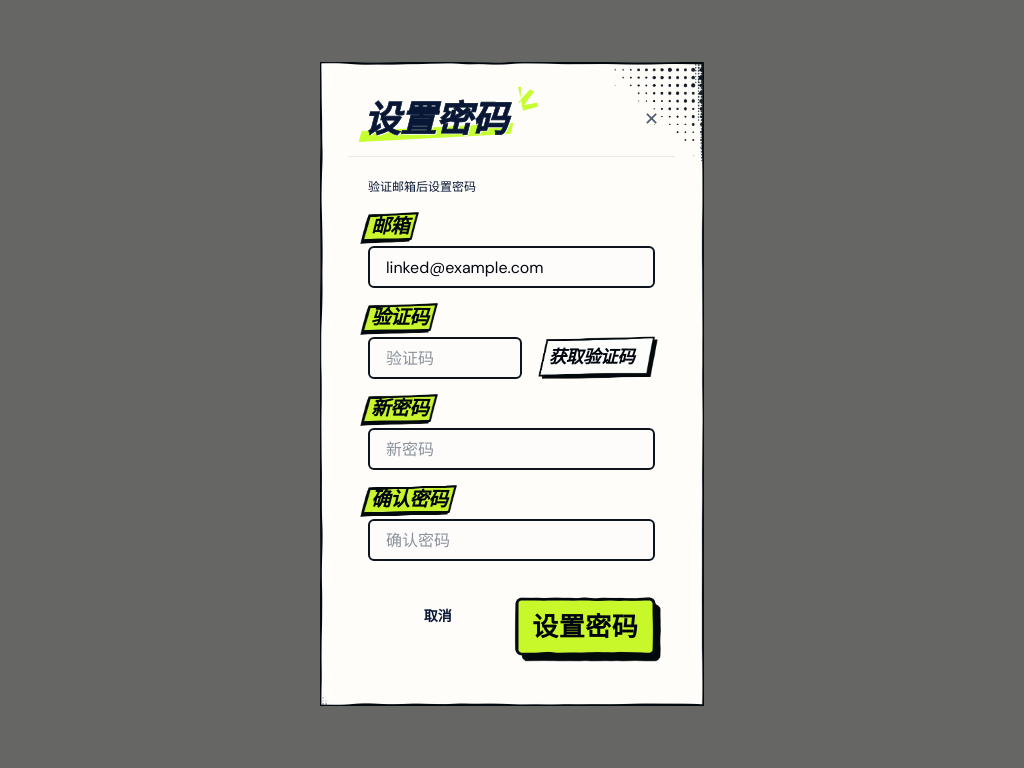
Test case: ChangePasswordDialog › keeps an existing account email read-only and surfaces an email conflict
This screenshot has width=1024, height=768.
expect the field labelled "邮箱" holds "linked@example.com": met, box [368,246,655,288]
Type "123456" into the field with placeholder "验证码" at (445, 358), box [368,337,522,379]
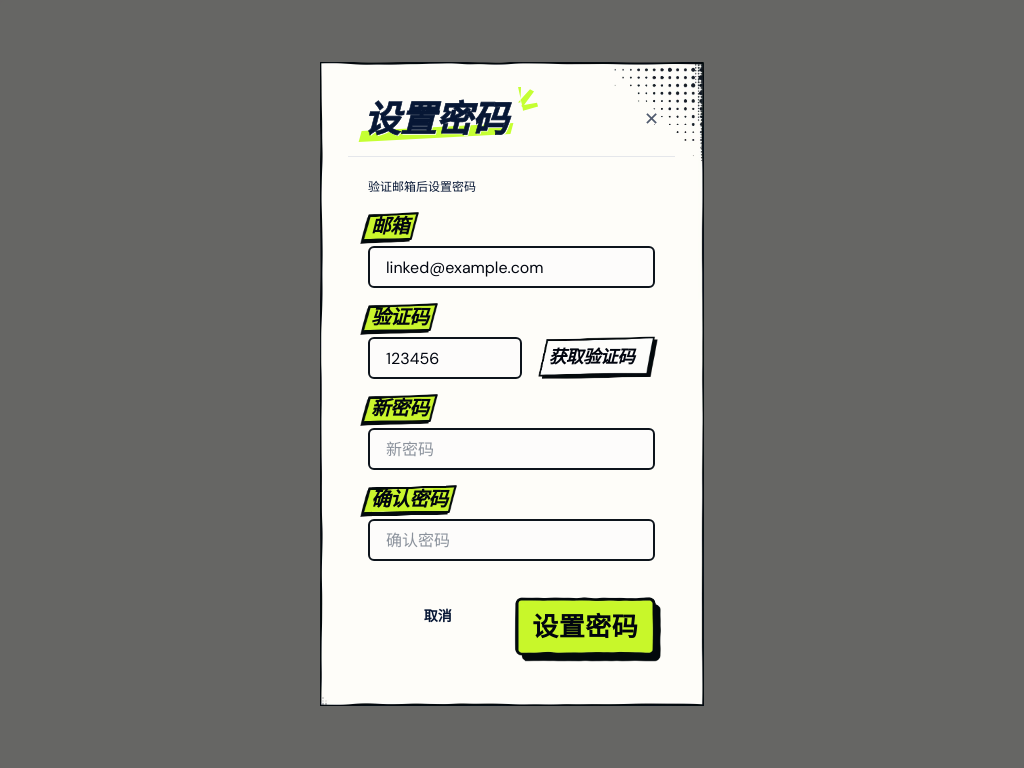
Type "new-secret123" into the password field with placeholder "新密码" at (512, 449), box [368,428,655,470]
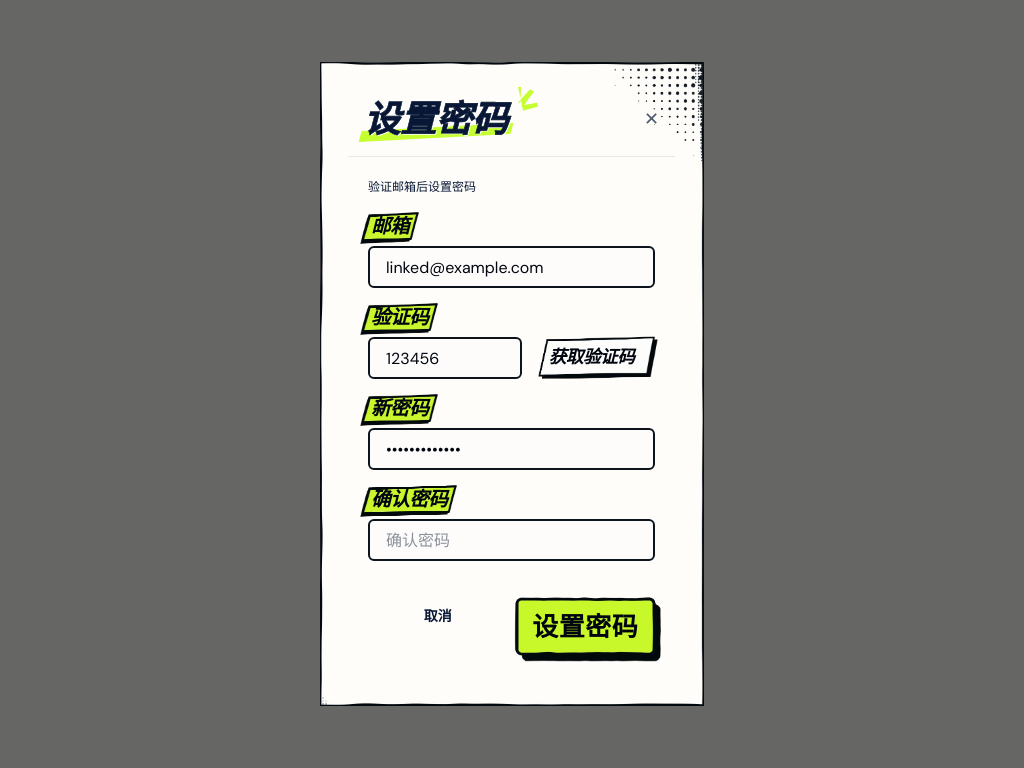
Type "new-secret123" into the password field with placeholder "确认密码" at (512, 540), box [368,519,655,561]
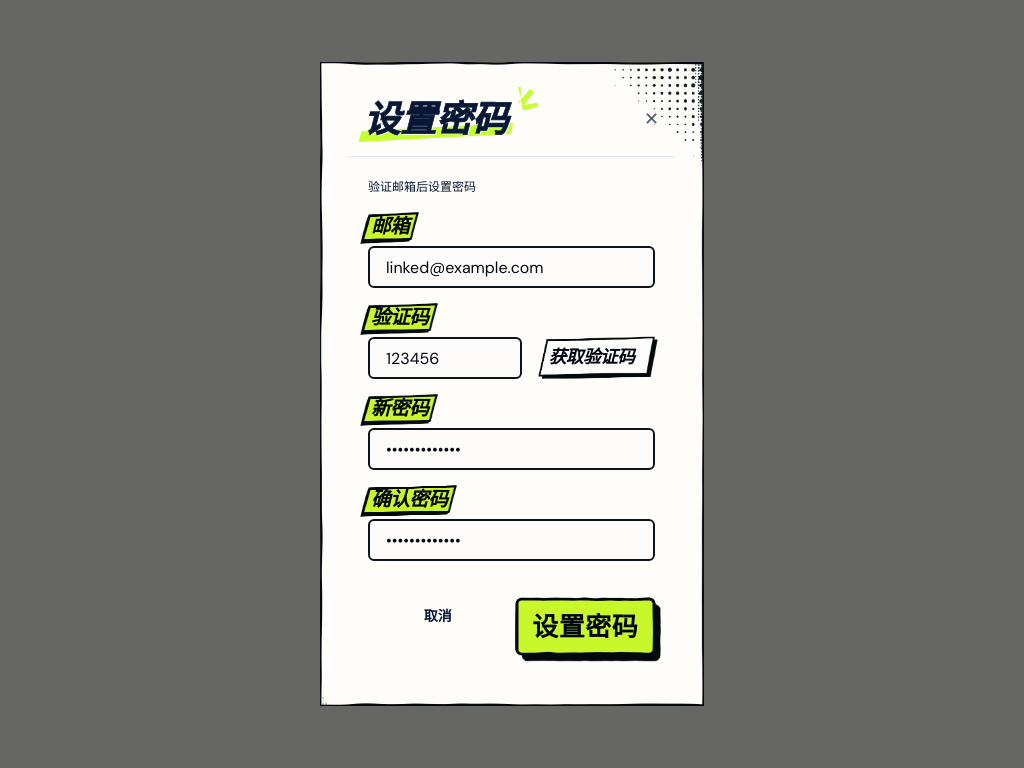
Click the button "设置密码" at (585, 627), box [516,598,655,655]
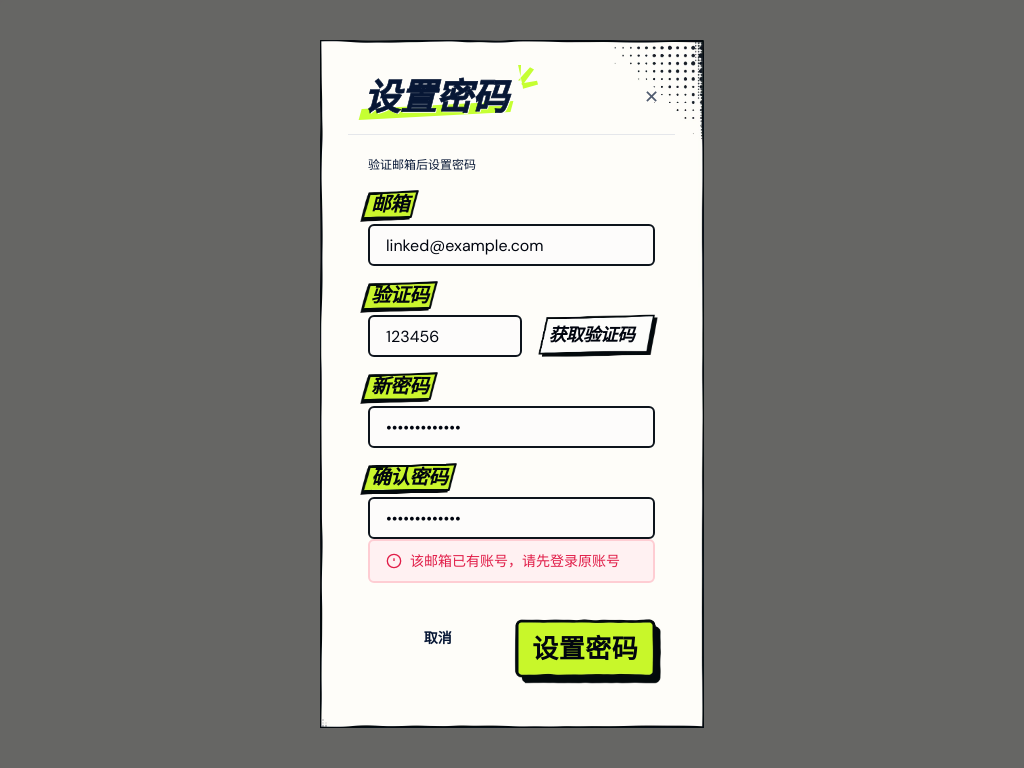
expect the button "设置密码" is enabled: met, box [516,620,655,677]
expect the text "该邮箱已有账号" is shown: met, box [410,552,620,570]
